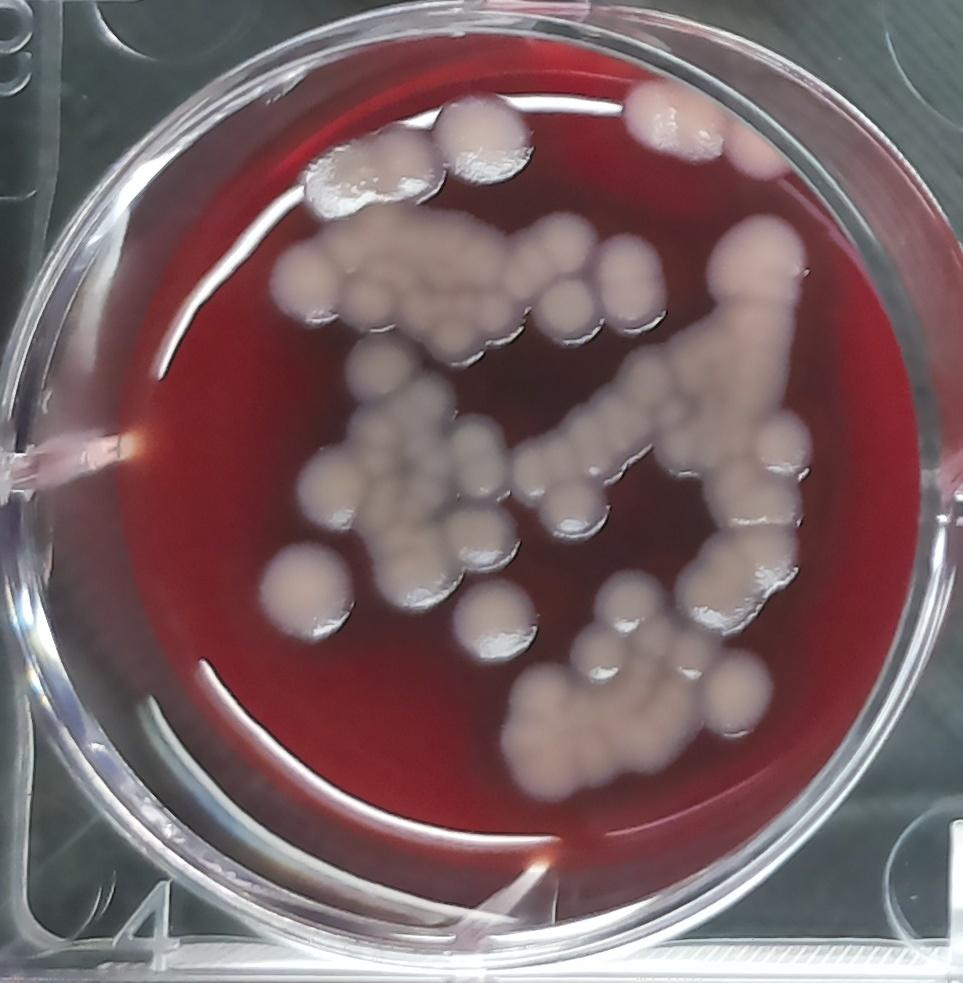bcereus: (287, 332, 518, 607), (262, 214, 590, 351), (494, 339, 698, 548), (485, 651, 706, 800), (299, 117, 442, 218), (678, 515, 808, 626), (249, 531, 362, 649), (700, 205, 813, 305), (614, 70, 725, 169), (435, 84, 538, 186), (444, 567, 538, 665), (593, 228, 673, 334), (691, 644, 774, 745), (726, 100, 807, 192), (590, 567, 671, 640), (747, 401, 818, 483), (536, 277, 603, 350), (563, 617, 633, 681)
